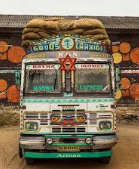truck: (18, 19, 118, 166)
